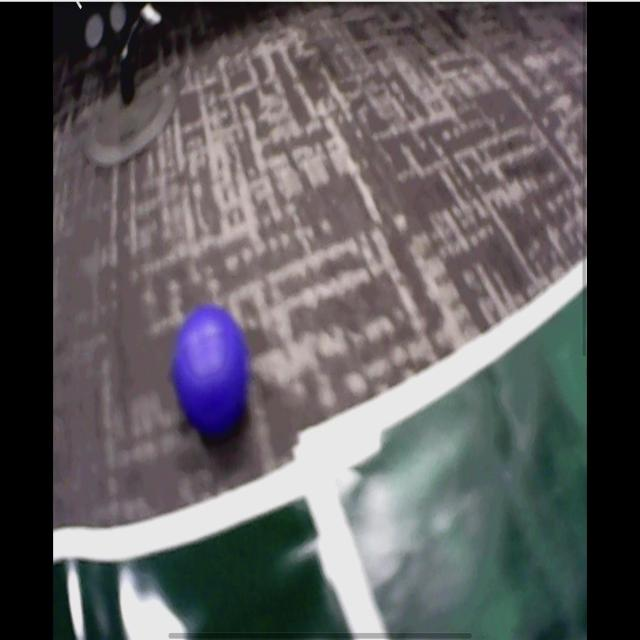ball: (172, 308, 250, 432)
